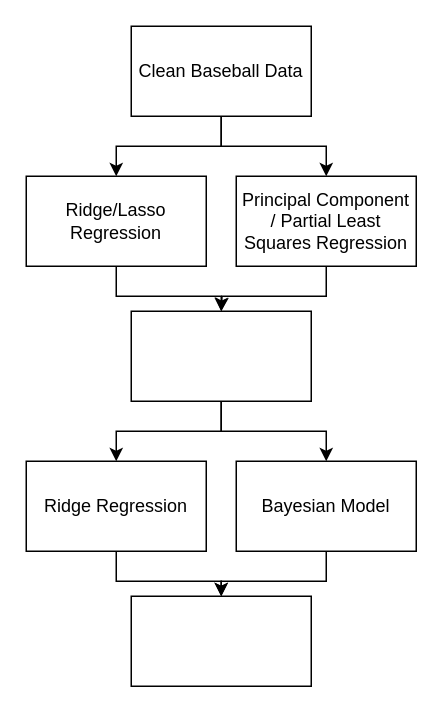
The diagram is 443 pixels wide and 713 high, and some of its shapes have lost their labels. The shapes that lost their labels are listed below. From the top down, each one's centre as x and y in pixels, then its label:
the point at 220,355: Data Tweaks
the point at 220,640: Interpretation of Results
